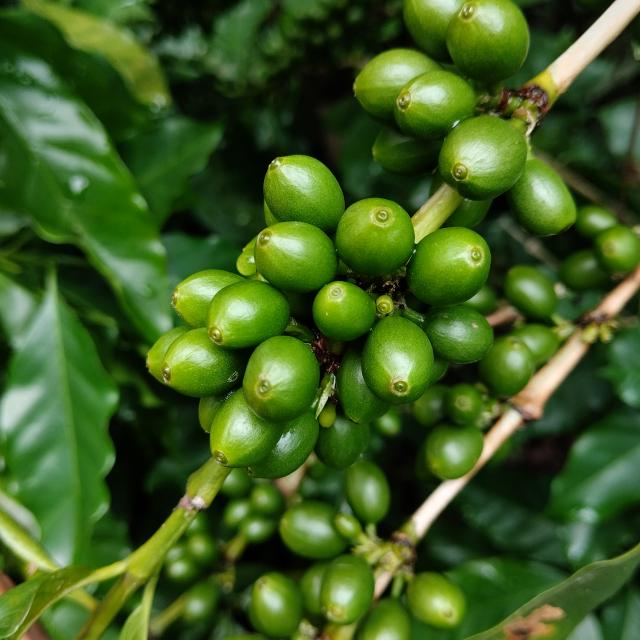green: (439, 115, 528, 200), (406, 227, 492, 307), (447, 0, 530, 82), (242, 336, 320, 423), (353, 48, 443, 123), (362, 316, 434, 406), (263, 154, 345, 233), (335, 198, 415, 276), (210, 389, 286, 469), (254, 221, 338, 293), (161, 328, 246, 398), (206, 280, 290, 349), (394, 70, 476, 140), (507, 158, 578, 236), (300, 556, 374, 628), (246, 411, 319, 480), (336, 338, 391, 424), (171, 269, 245, 329), (423, 305, 494, 364), (280, 501, 348, 560), (404, 0, 467, 61), (321, 555, 375, 626), (313, 281, 376, 341), (249, 573, 302, 640), (479, 336, 536, 398), (407, 573, 466, 631), (372, 127, 444, 174), (425, 424, 484, 480), (314, 416, 370, 471), (345, 461, 391, 525), (505, 265, 558, 319), (145, 326, 190, 384), (511, 324, 562, 366), (445, 384, 484, 425), (236, 236, 268, 282), (285, 292, 315, 318), (264, 200, 279, 226)
